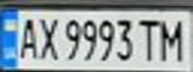3: (115, 16, 139, 62)
9: (78, 15, 100, 62), (60, 15, 81, 62), (97, 16, 118, 62)
A: (12, 14, 42, 61)
M: (157, 15, 190, 62)
T: (136, 16, 163, 62)
X: (33, 14, 60, 61)
